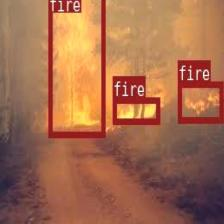fire: (48, 0, 104, 137), (177, 80, 223, 123), (112, 96, 160, 124)
